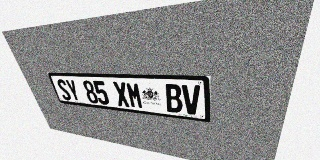5: (92, 81, 110, 105)
8: (82, 80, 99, 104)
B: (164, 84, 183, 113)
M: (125, 82, 144, 109)
S: (55, 79, 72, 101)
V: (182, 84, 201, 115)
X: (112, 81, 130, 107)
Y: (64, 79, 82, 102)
